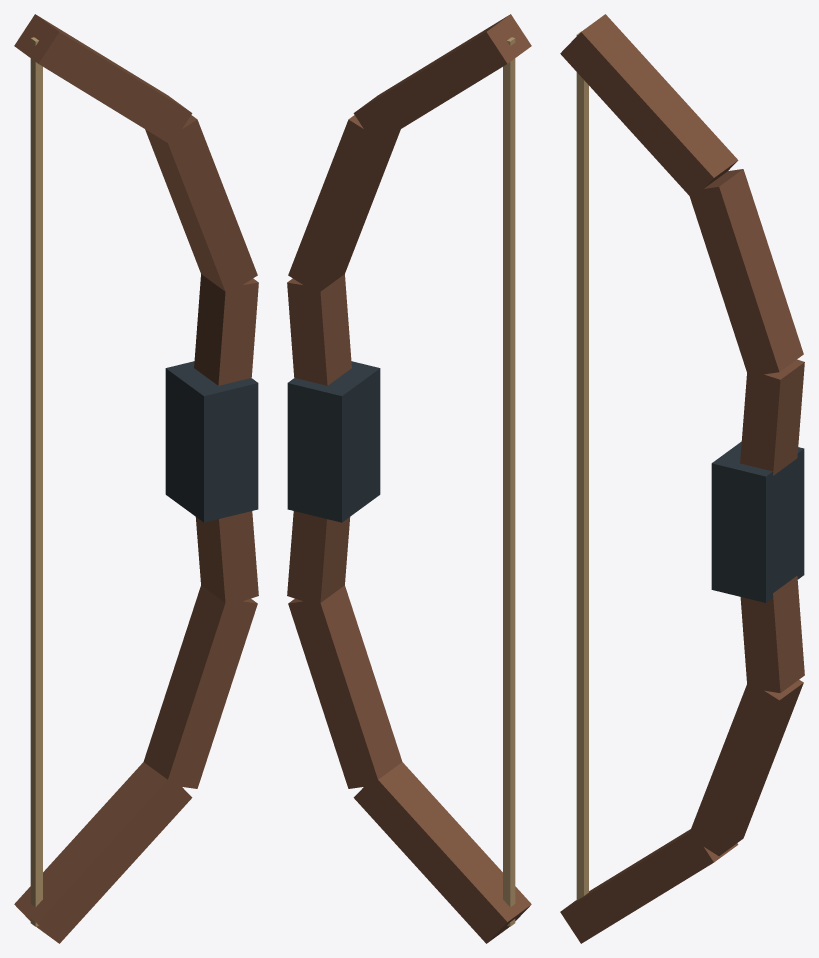
The model's file is fixed-bow-lod2.glb.
3 renders of one model, left to right at view 1: azimuth 30°, elevation 25°; view 2: azimuth 150°, elevation 25°; view 3: azimuth 330°, elevation 25°, orthographic.
Visible parts, largest first — view 1: piece_whole; view 2: piece_whole; view 3: piece_whole.
Part boxes in pixels (x1,y1,x2,y2): piece_whole: (14,14,258,943); piece_whole: (287,14,531,943); piece_whole: (560,14,804,943).
Bounding box in the file's own units: 0.3648 × 1.44 × 0.11.
